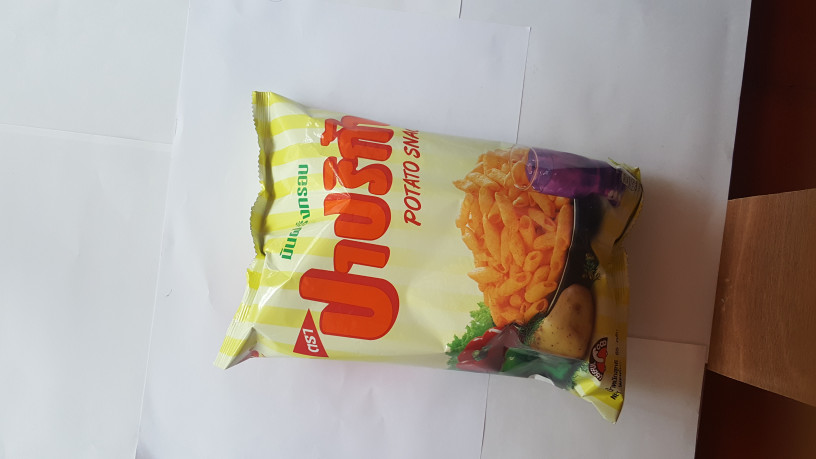paprika: (227, 88, 660, 423)
